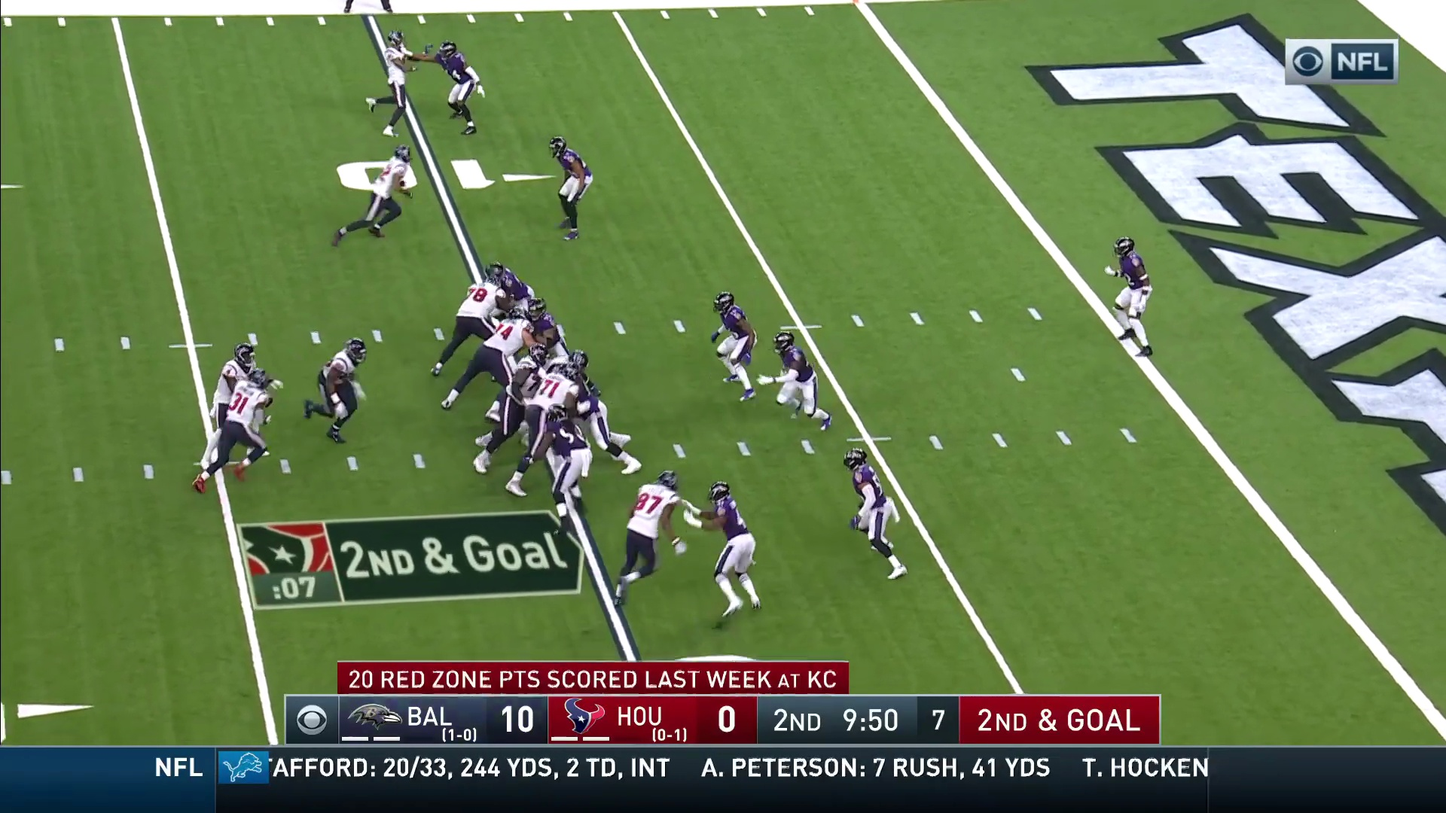Player: (194, 340, 266, 492), (614, 471, 679, 601), (545, 347, 611, 452), (524, 355, 580, 457), (539, 408, 592, 511), (1110, 237, 1153, 357), (221, 363, 271, 466), (317, 337, 365, 441), (712, 291, 756, 398), (522, 297, 570, 393), (436, 40, 482, 134), (482, 310, 530, 388), (505, 348, 548, 435), (489, 263, 533, 330)
